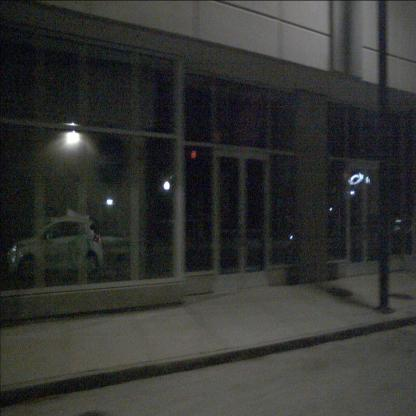vehicle-car: (6, 216, 104, 284)
